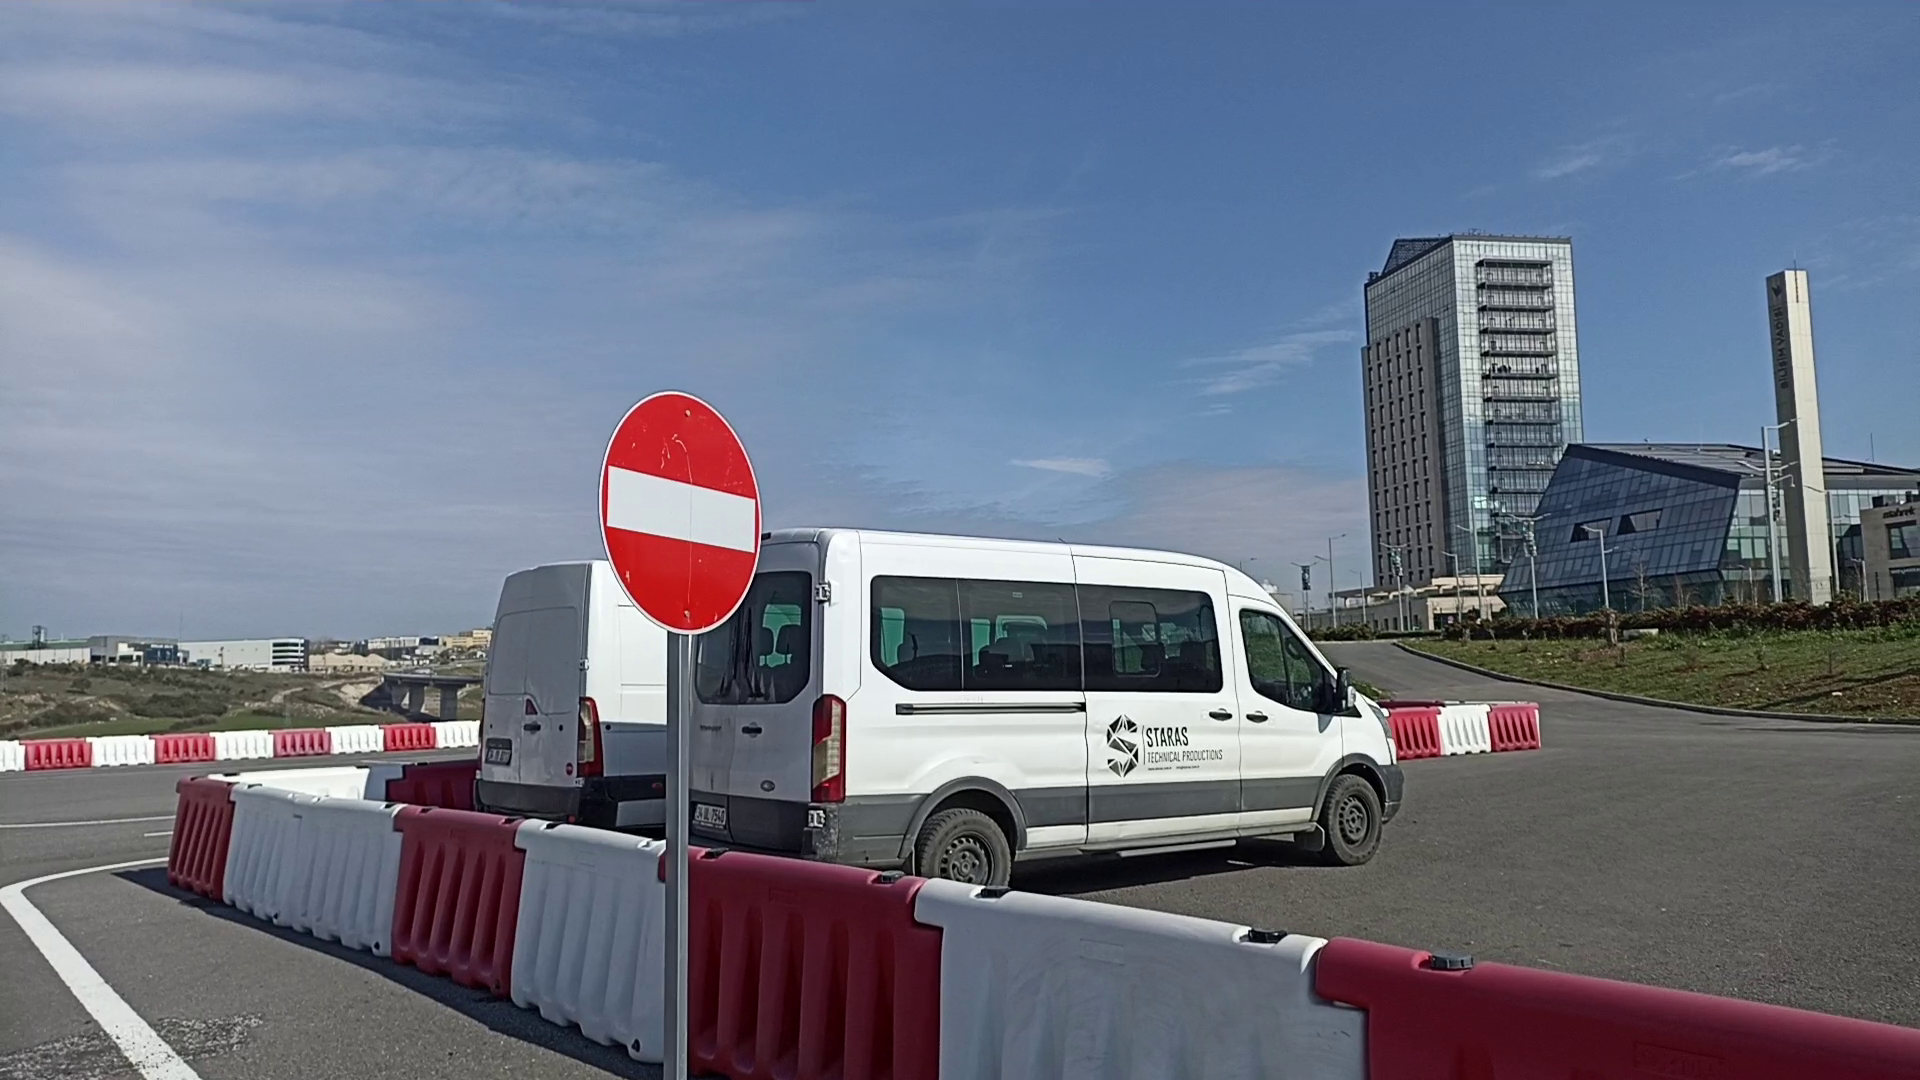noentryway: (595, 386, 766, 640)
